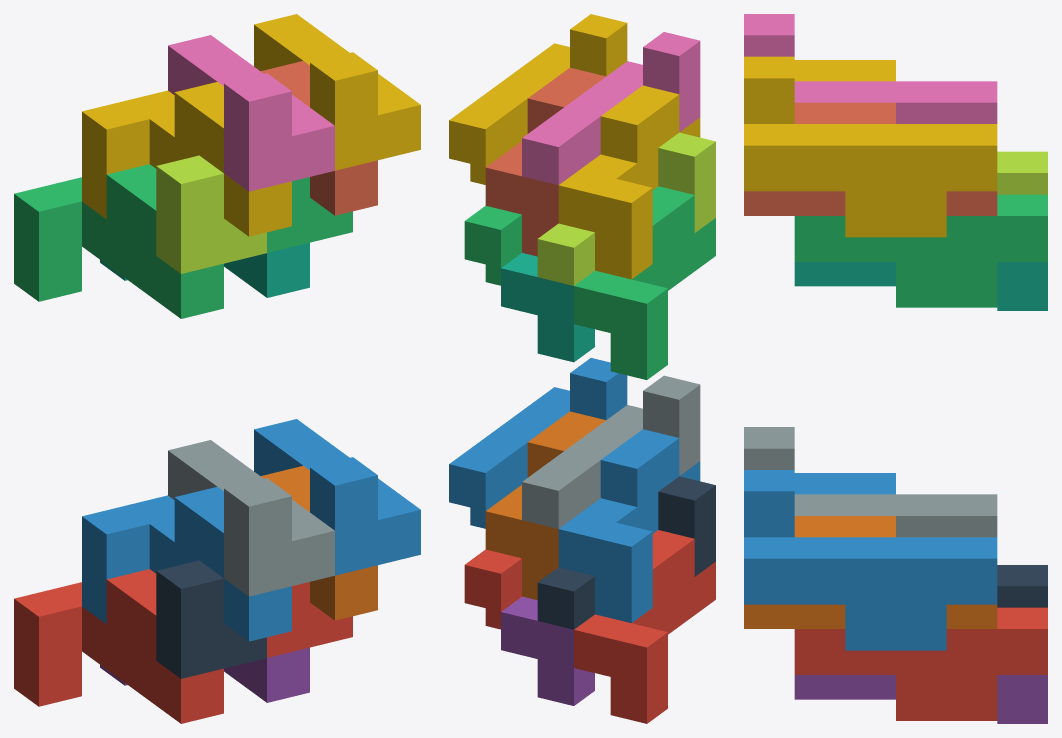
Rendered from tiling.obj.
3 renders of one model, left to right at view 1: azimuth 30°, elevation 25°; view 2: azimuth 150°, elevation 25°; view 3: azimuth 270°, elevation 25°, orthographic. The views are drawn at different scales.
Parts seen in each view (by area): view 1: copy_1_domain_1, copy_1_domain_3, copy_1_domain_4, copy_1_domain_2, copy_2_domain_4, copy_2_domain_2, copy_2_domain_6, copy_2_domain_8, copy_2_domain_3, copy_2_domain_1, copy_1_domain_6, copy_1_domain_8 (+4 smaller); view 2: copy_1_domain_4, copy_1_domain_2, copy_1_domain_1, copy_1_domain_3, copy_2_domain_2, copy_2_domain_4, copy_2_domain_8, copy_2_domain_6, copy_2_domain_1, copy_2_domain_3, copy_1_domain_6, copy_1_domain_8 (+4 smaller); view 3: copy_2_domain_8, copy_2_domain_6, copy_2_domain_5, copy_2_domain_7, copy_2_domain_2, copy_2_domain_4, copy_1_domain_8, copy_1_domain_6, copy_1_domain_5, copy_1_domain_7, copy_2_domain_3, copy_1_domain_2 (+2 smaller).
Part boxes in pixels (x1,y1,x2,y2): copy_1_domain_1: (14, 569, 223, 723); copy_1_domain_3: (14, 164, 223, 318); copy_1_domain_4: (82, 82, 291, 236); copy_1_domain_2: (82, 486, 291, 641); copy_2_domain_4: (168, 35, 334, 191); copy_2_domain_2: (168, 440, 334, 596); copy_2_domain_6: (254, 419, 420, 575); copy_2_domain_8: (254, 14, 420, 170); copy_2_domain_3: (156, 155, 266, 273); copy_2_domain_1: (156, 560, 266, 678); copy_1_domain_6: (261, 465, 377, 620); copy_1_domain_8: (261, 61, 377, 215); copy_1_domain_4: (558, 85, 700, 279); copy_1_domain_2: (558, 429, 700, 623); copy_1_domain_1: (574, 530, 715, 723); copy_1_domain_3: (574, 186, 715, 379); copy_2_domain_2: (522, 375, 700, 528); copy_2_domain_4: (522, 32, 700, 185); copy_2_domain_8: (449, 14, 627, 184); copy_2_domain_6: (449, 358, 627, 528); copy_2_domain_1: (537, 476, 715, 629); copy_2_domain_3: (537, 132, 715, 285); copy_1_domain_6: (485, 411, 605, 600); copy_1_domain_8: (485, 67, 605, 256); copy_2_domain_8: (744, 56, 997, 237); copy_2_domain_6: (744, 470, 997, 650); copy_2_domain_5: (794, 607, 1047, 720); copy_2_domain_7: (794, 194, 1047, 307); copy_2_domain_2: (744, 427, 997, 537); copy_2_domain_4: (744, 14, 997, 123); copy_1_domain_8: (744, 102, 997, 215); copy_1_domain_6: (744, 516, 997, 628); copy_1_domain_5: (794, 675, 1047, 723); copy_1_domain_7: (794, 262, 1047, 310); copy_2_domain_3: (997, 151, 1047, 194); copy_1_domain_2: (794, 473, 895, 494).
Bounding box in the file's own units: 6 × 15 × 6.
